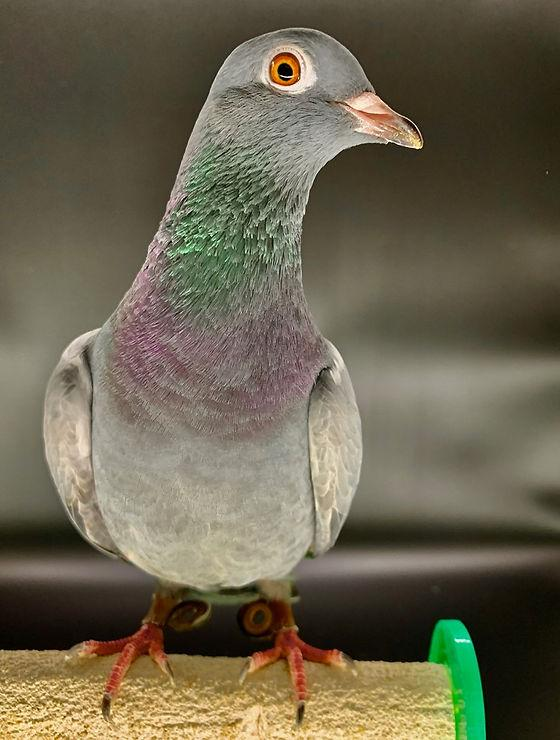Flying Rat: (55, 30, 423, 720)
